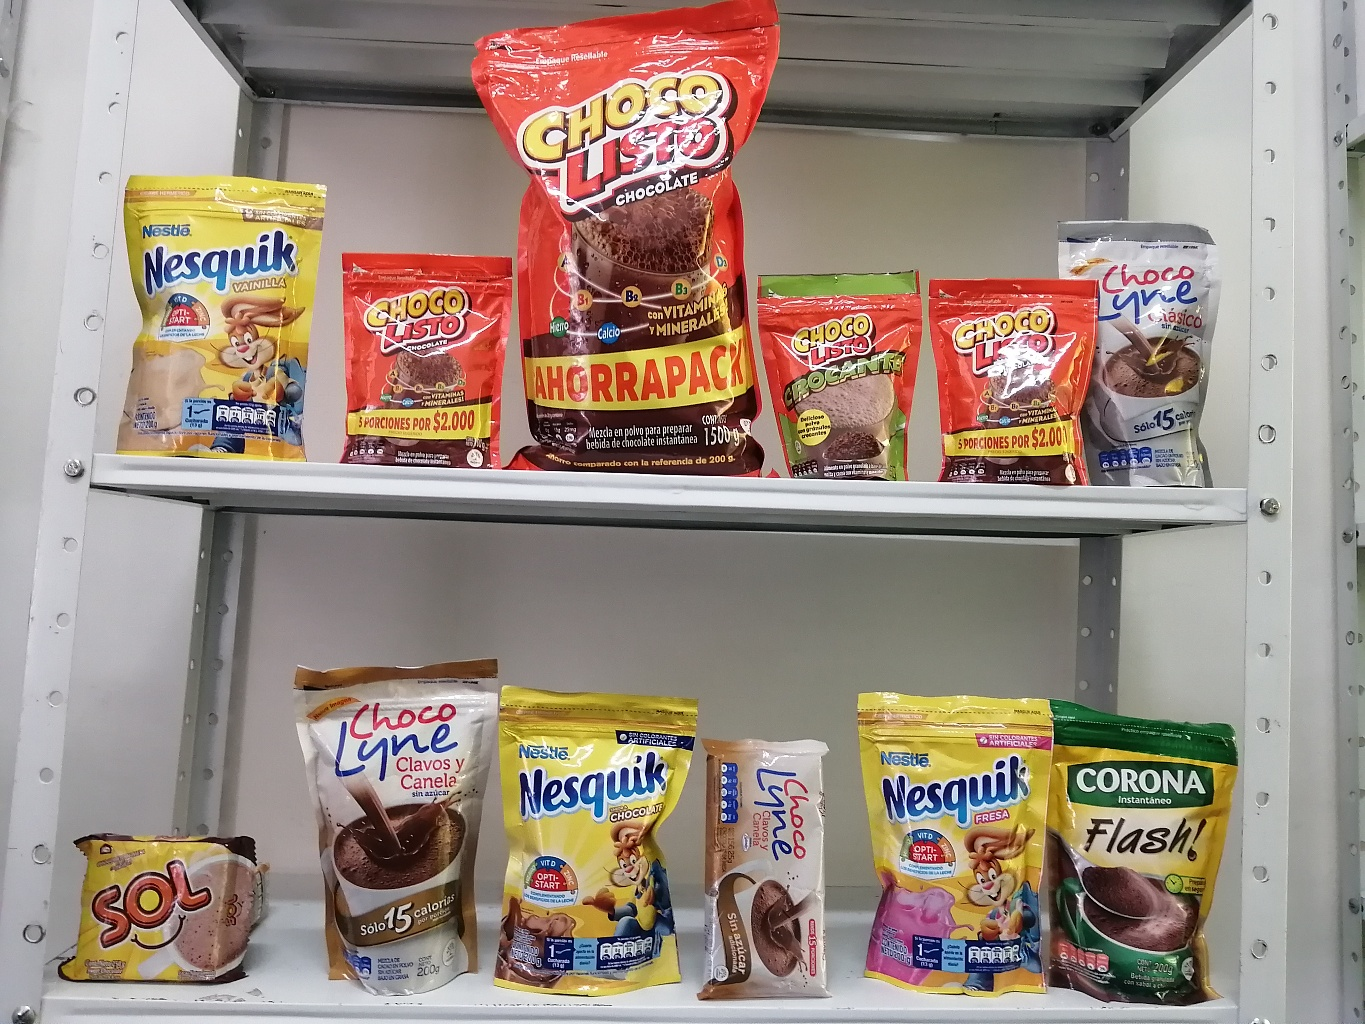COL0170102DYP10000: (736, 256, 936, 501)
COL0170103DYP1,500: (460, 1, 801, 486)
COL0170303DYP20000: (490, 672, 700, 1002)
COL0170305DYP20000: (845, 664, 1062, 1005)
COL0170306DYP20000: (106, 155, 335, 456)
